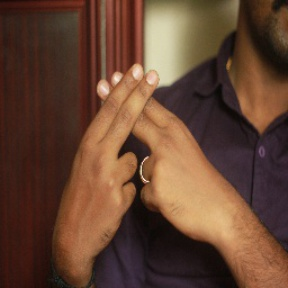F: (60, 56, 205, 175)
